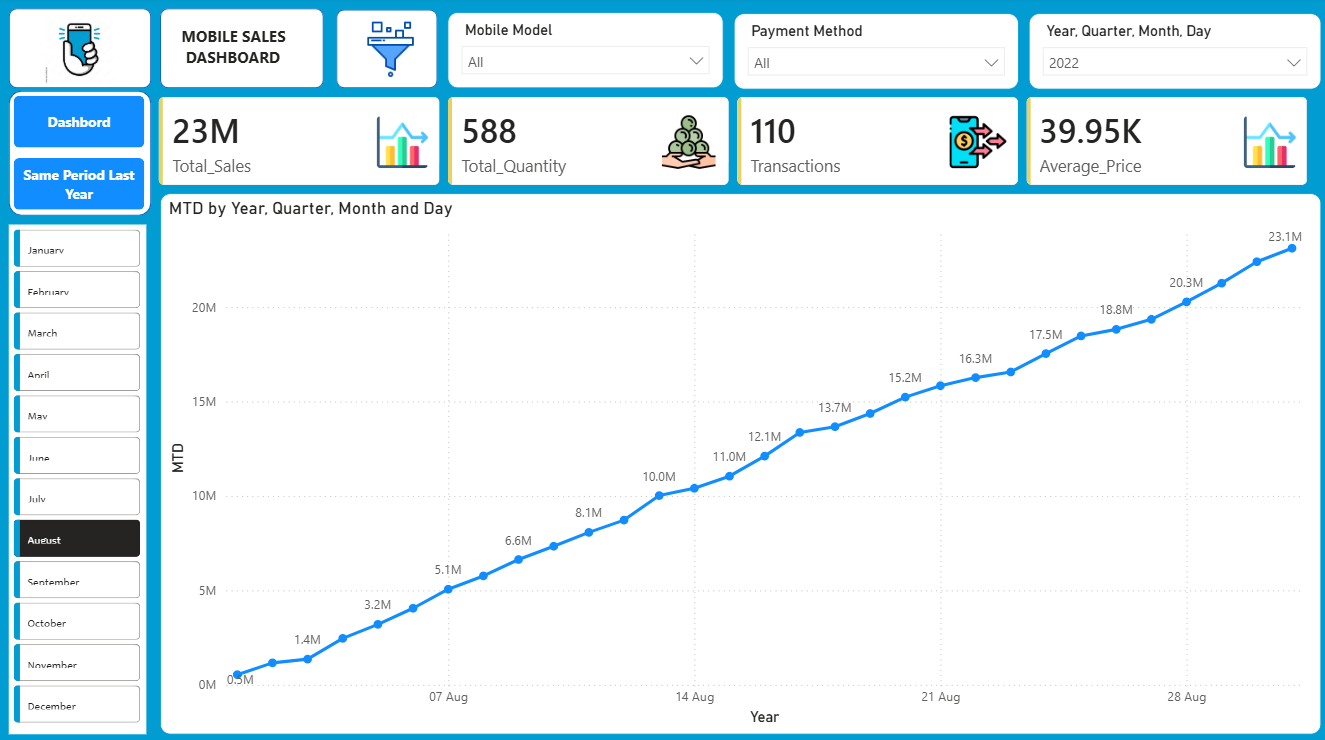

Layout of this report page (visuals, bound fields, positions):
{"tool":"powerbi","page":{"name":"MTD Report","canvas":[1280,720],"ordinal":1},"visuals":[{"type":"shape","box":[8.4,10.9,137.5,77.2],"z":0},{"type":"shape","box":[8.4,90.5,137.5,108.6],"z":1000},{"type":"shape","box":[154.4,10.9,158,77.2],"z":2000},{"type":"shape","box":[324.5,12.1,97.7,76],"z":3000},{"type":"cardVisual","fields":{"Data":["Sales_Data.Total_Sales","Sales_Data.Total_Quantity","Sales_Data.Transactions","Sales_Data.Average_Price"]},"box":[136.3,79.6,1143.7,119.4],"z":4000},{"type":"slicer","fields":{"Values":["Sales_Data.Mobile Model"]},"box":[431.9,14.5,266.6,73.6],"z":5000},{"type":"slicer","fields":{"Values":["Sales_Data.Payment Method"]},"box":[708.2,15.7,275.1,73.6],"z":6000},{"type":"slicer","fields":{"Values":["Custom_Calender.Date.Variation.Date Hierarchy.Year","Custom_Calender.Date.Variation.Date Hierarchy.Quarter","Custom_Calender.Date.Variation.Date Hierarchy.Month","Custom_Calender.Date.Variation.Date Hierarchy.Day"]},"box":[992.9,15.7,282.3,73.6],"z":7000},{"type":"image","box":[331.8,22.9,90.5,55.5],"z":8000},{"type":"textbox","box":[170.1,22.9,127.9,56.7],"z":9000},{"type":"image","box":[43.4,10.9,66.4,79.6],"z":10000},{"type":"lineChart","fields":{"Y":["Sales_Data.MTD"],"Category":["Custom_Calender.Date.Variation.Date Hierarchy.Year","Custom_Calender.Date.Variation.Date Hierarchy.Quarter","Custom_Calender.Date.Variation.Date Hierarchy.Month","Custom_Calender.Date.Variation.Date Hierarchy.Day"]},"box":[154.4,189.4,1120.8,522.4],"z":11000},{"type":"advancedSlicerVisual","fields":{"Values":["Custom_Calender.Date.Variation.Date Hierarchy.Month"]},"box":[8.4,207.5,132.7,504.3],"z":12000},{"type":"pageNavigator","box":[13.3,95.3,126.7,94.1],"z":13000}]}

Visuals, with their boxes in screenshot pixels (x1, y1, x2, y2), scaled from the page's 1280x720 canvas onto the 1325x740 screenshot:
shape: detection(9, 11, 151, 91)
shape: detection(9, 93, 151, 205)
shape: detection(160, 11, 323, 91)
shape: detection(336, 12, 437, 91)
cardVisual - Sales_Data.Total_Sales x Sales_Data.Total_Quantity: detection(141, 82, 1324, 205)
slicer - Sales_Data.Mobile Model: detection(447, 15, 723, 91)
slicer - Sales_Data.Payment Method: detection(733, 16, 1018, 92)
slicer - Custom_Calender.Date.Variation.Date Hierarchy.Year x Custom_Calender.Date.Variation.Date Hierarchy.Quarter: detection(1028, 16, 1320, 92)
image: detection(343, 24, 437, 81)
textbox: detection(176, 24, 308, 82)
image: detection(45, 11, 114, 93)
lineChart - Sales_Data.MTD x Custom_Calender.Date.Variation.Date Hierarchy.Year: detection(160, 195, 1320, 732)
advancedSlicerVisual - Custom_Calender.Date.Variation.Date Hierarchy.Month: detection(9, 213, 146, 732)
pageNavigator: detection(14, 98, 145, 195)
